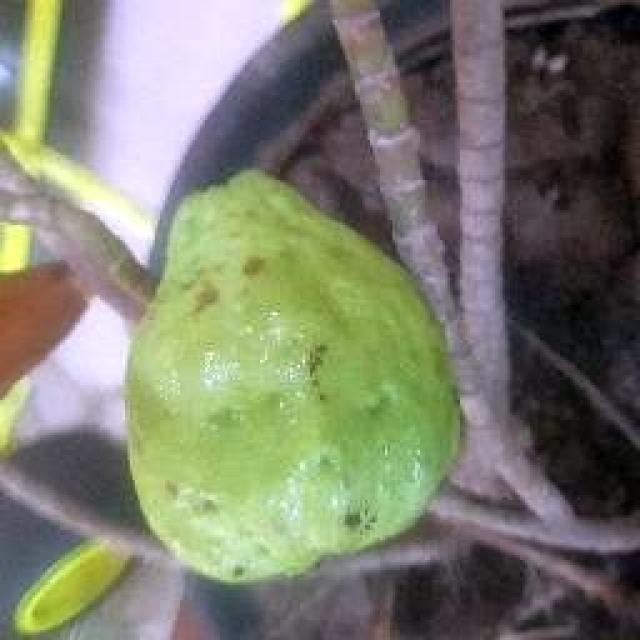Good_Guava: (122, 170, 465, 588)
